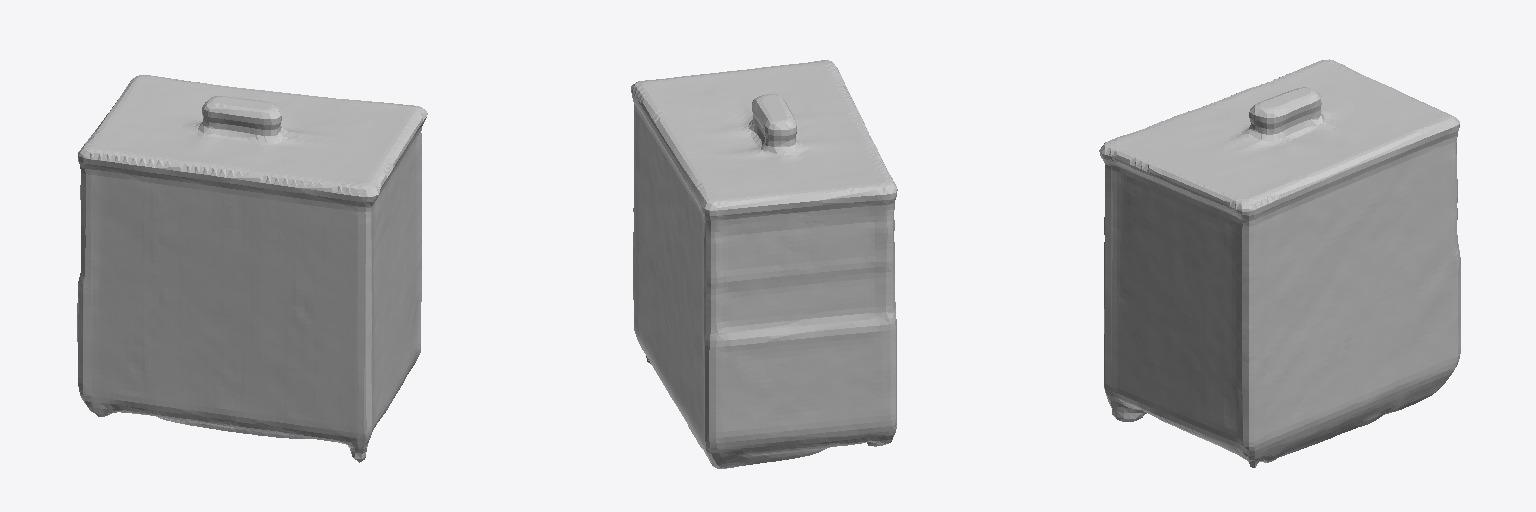
File: BetterDrawer.obj
The picture shows the model from 3 angles: view 1: azimuth 30°, elevation 25°; view 2: azimuth 150°, elevation 25°; view 3: azimuth 270°, elevation 25°; orthographic projection.
Bounding box in the file's own units: 631 × 603 × 647.